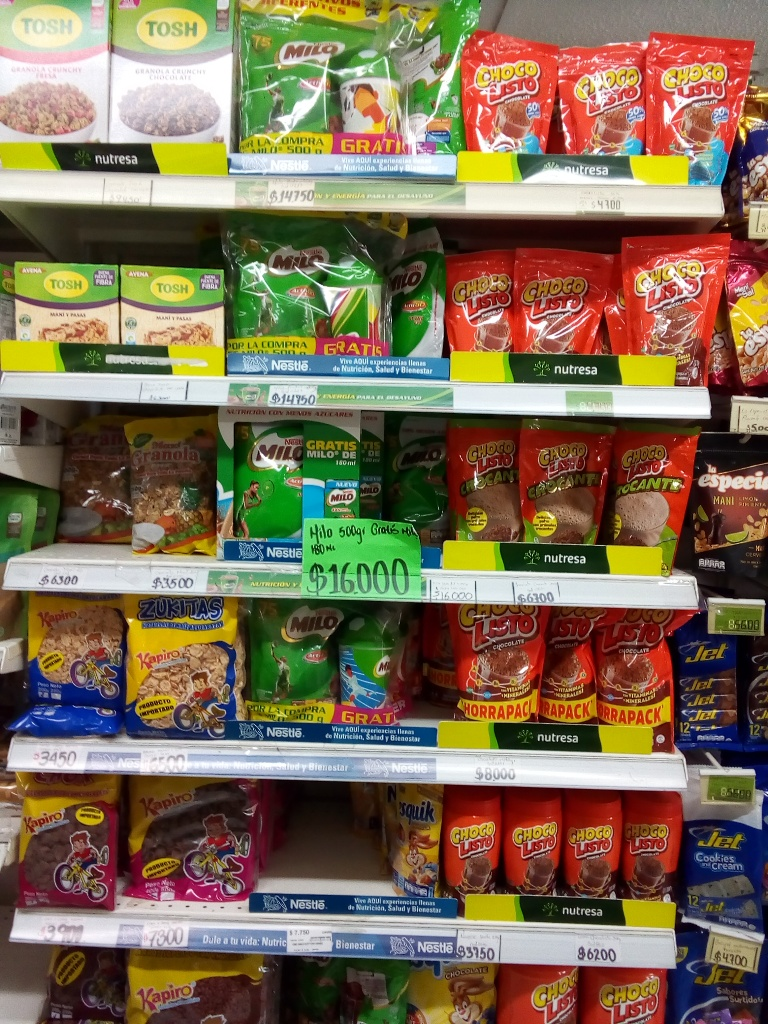COL0170102DYP25000: (444, 409, 522, 555)
COL0170103DYP44000: (442, 594, 545, 731)
COL0170103TRR30000: (436, 780, 502, 912)
COL0170104DYP20000: (451, 24, 559, 174)
COL0170203DYP50000: (242, 596, 343, 717)
COL0170205DYP20000: (382, 230, 450, 365)
COL0170205DYP50000: (242, 431, 307, 541)
COL0170303DYP20000: (380, 780, 444, 904)
